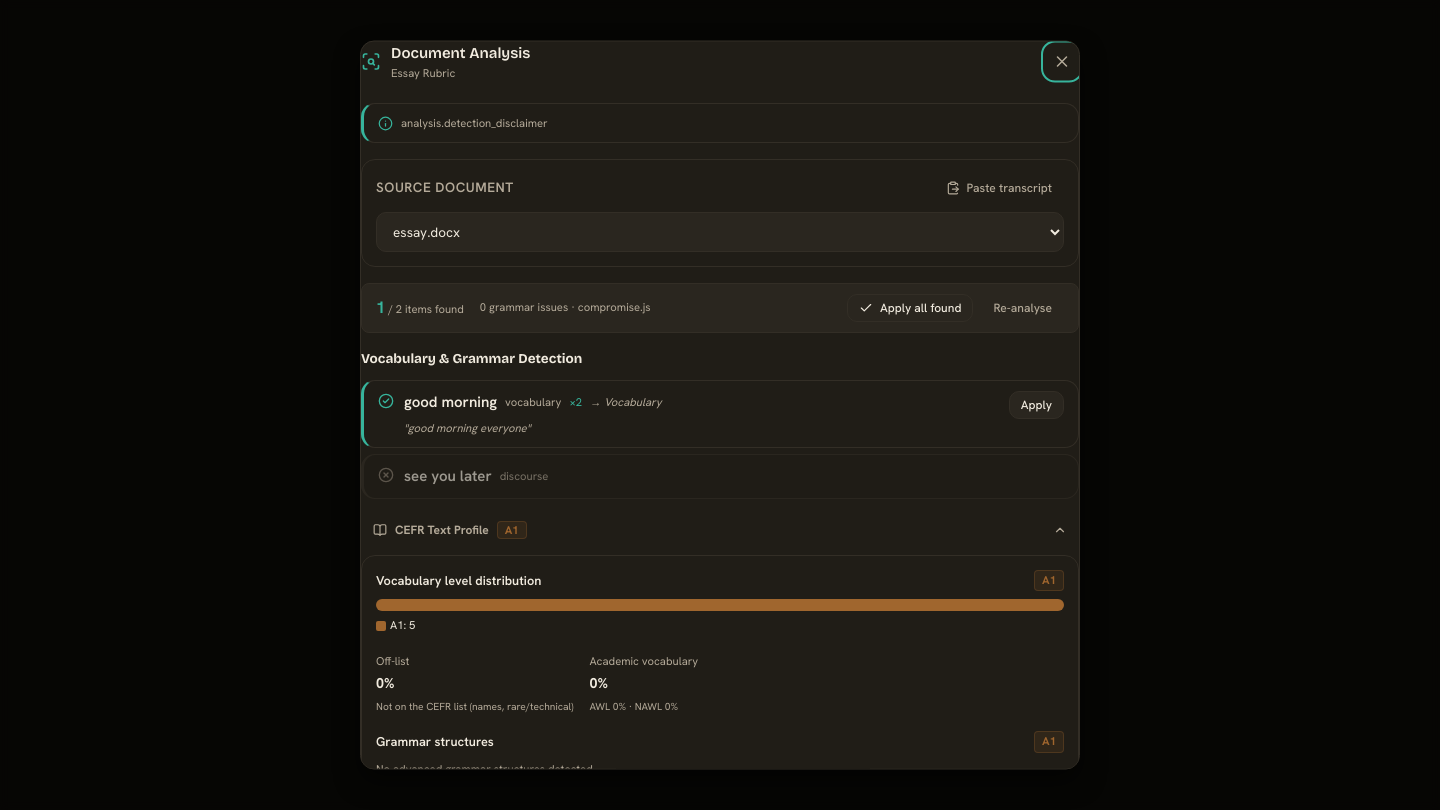
Scenario: DocumentAnalysisPanel › applies a found item with a linked sub-item and marks it as applied
Click the button "Apply". click: (1036, 404)
box: [1009,390,1064,418]
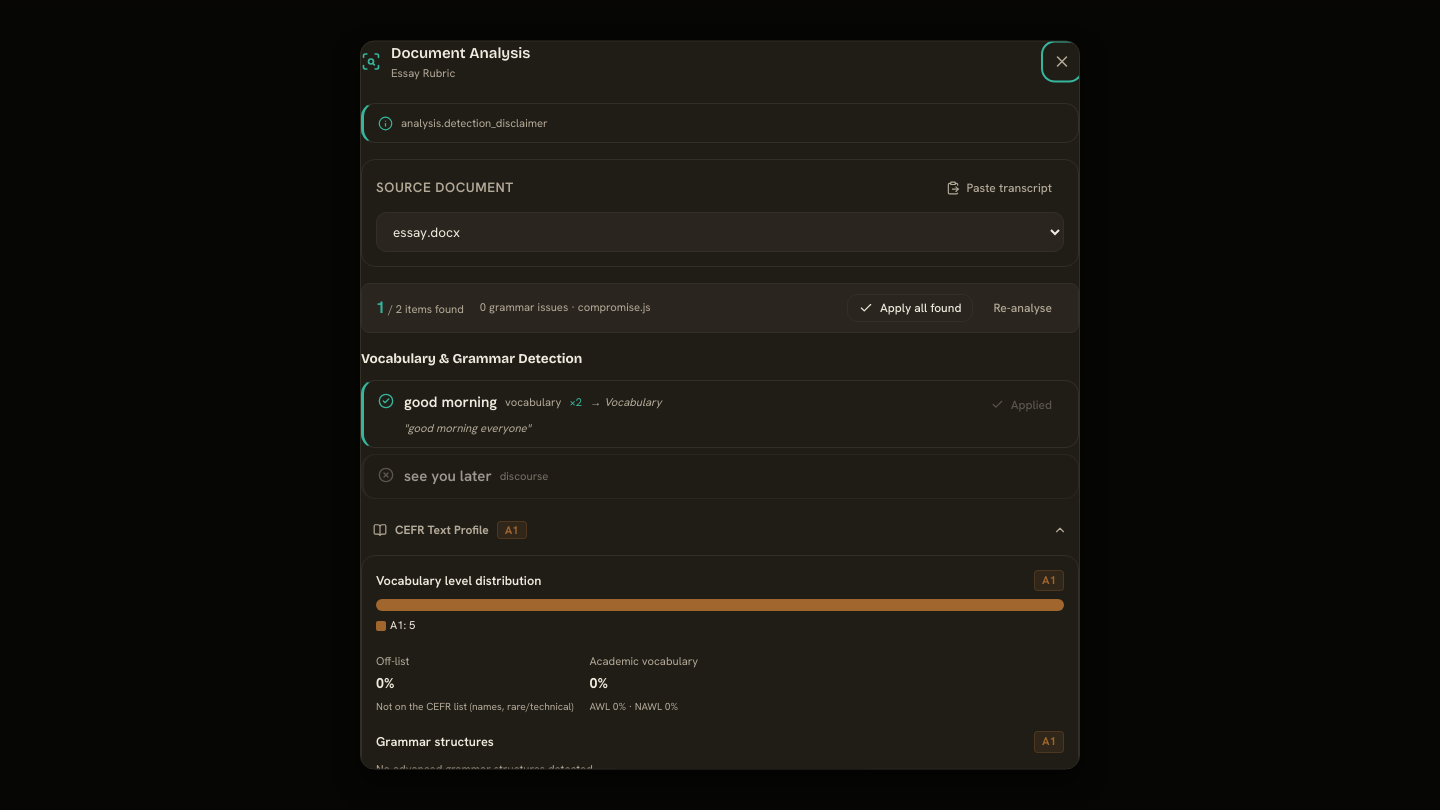
Now the button "Applied" is disabled, box [979,390,1064,418]
